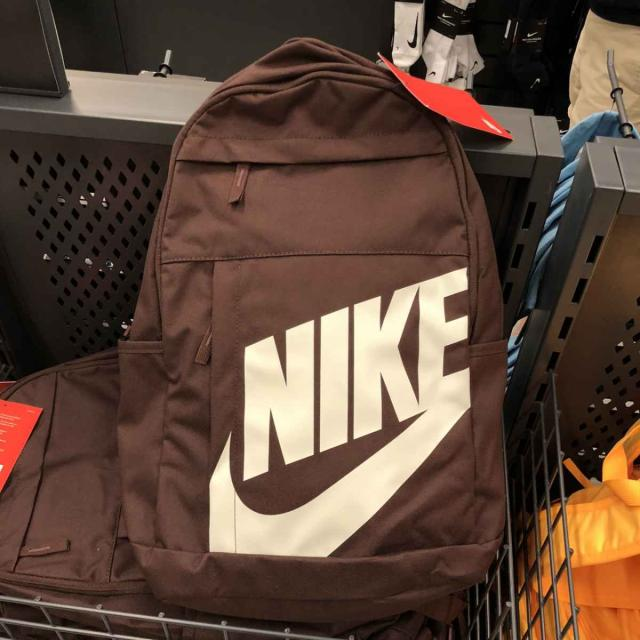Handbag: (120, 42, 510, 610)
